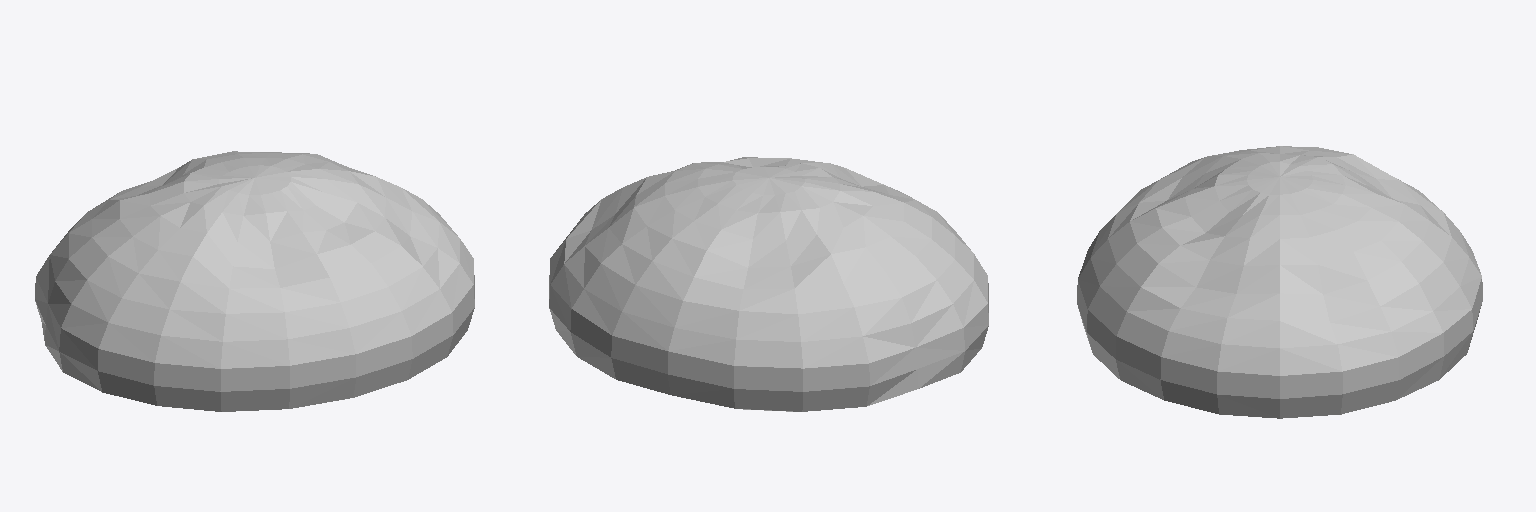
Rendered from round-dough.obj.
3 renders of one model, left to right at view 1: azimuth 30°, elevation 25°; view 2: azimuth 150°, elevation 25°; view 3: azimuth 270°, elevation 25°, orthographic.
Visible parts, largest first — view 1: pizzadough-lowpoly; view 2: pizzadough-lowpoly; view 3: pizzadough-lowpoly.
Boxes of the visible parts, <box> form: pizzadough-lowpoly: <box>35,151,474,411</box>; pizzadough-lowpoly: <box>549,157,988,411</box>; pizzadough-lowpoly: <box>1077,146,1482,418</box>.
Size of the model in its own units: 7.87 by 2.99 by 7.03.